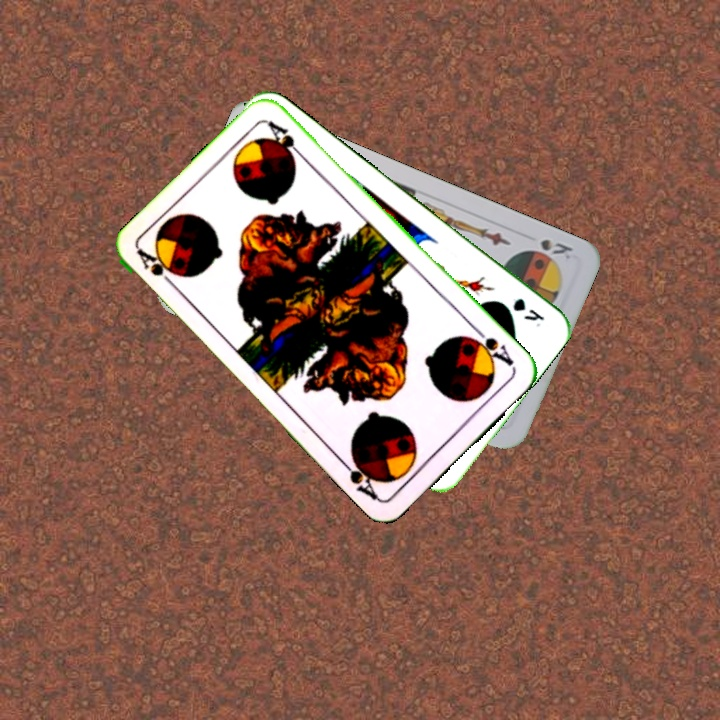GK: (509, 294, 548, 330)
SA: (463, 323, 517, 369), (133, 246, 181, 293)
SK: (521, 235, 576, 264)
